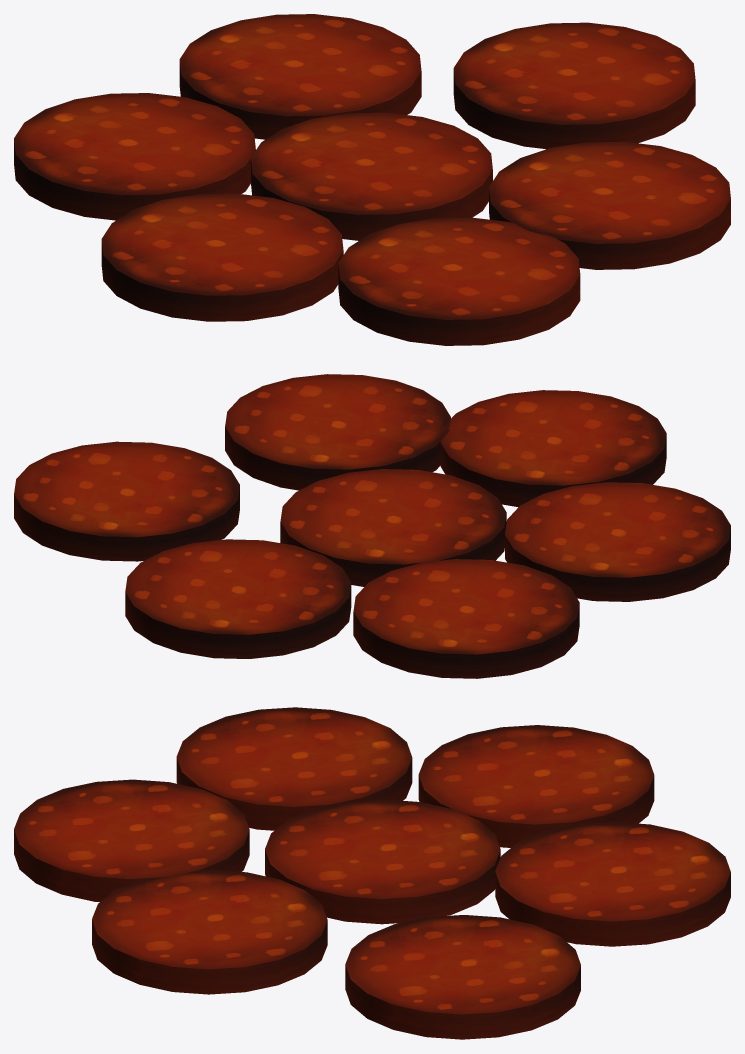
The model's file is Pizza_Pepperoni_Base_Cooked.fbx.
3 renders of one model, top to bottom at view 1: azimuth 30°, elevation 25°; view 2: azimuth 150°, elevation 25°; view 3: azimuth 270°, elevation 25°, orthographic. The views are drawn at different scales.
Parts seen in each view (by area): view 1: Pizza_Pepperoni_Base_Cooked; view 2: Pizza_Pepperoni_Base_Cooked; view 3: Pizza_Pepperoni_Base_Cooked.
Part boxes in pixels (x1,y1,x2,y2): Pizza_Pepperoni_Base_Cooked: (14, 14, 730, 345); Pizza_Pepperoni_Base_Cooked: (14, 374, 730, 678); Pizza_Pepperoni_Base_Cooked: (14, 707, 730, 1039).
Size of the model in its own units: 0.6688 by 0.0256 by 0.6598.
Materials: 1 (1 with a texture image).
